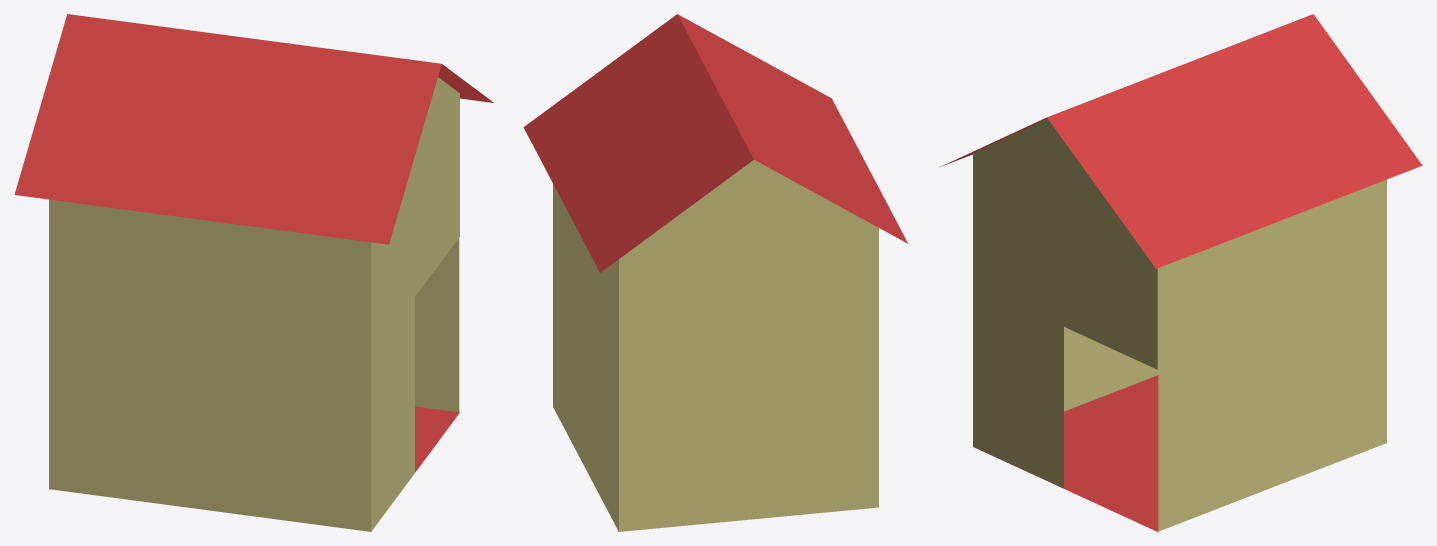
3 views of the same model, side by side, from view 1: azimuth 30°, elevation 25°; view 2: azimuth 150°, elevation 25°; view 3: azimuth 270°, elevation 25° (orthographic). The views are drawn at different scales.
Size of the model in its own units: 14.34 by 14.41 by 12.42.
